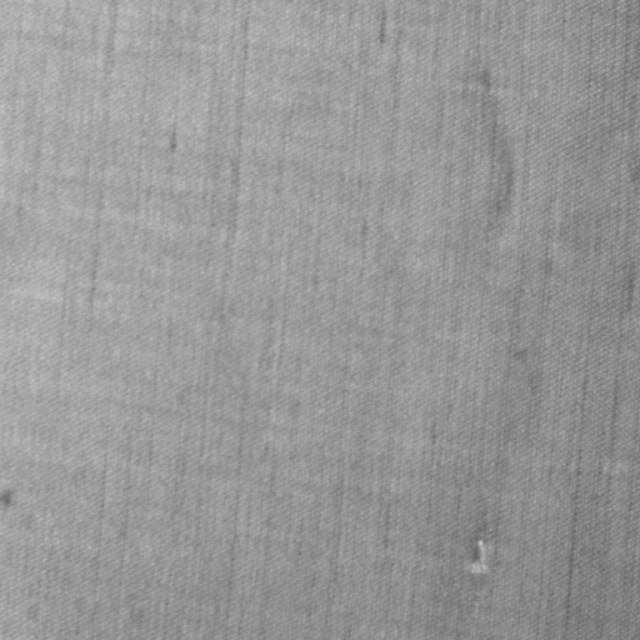hole: (467, 534, 491, 585)
